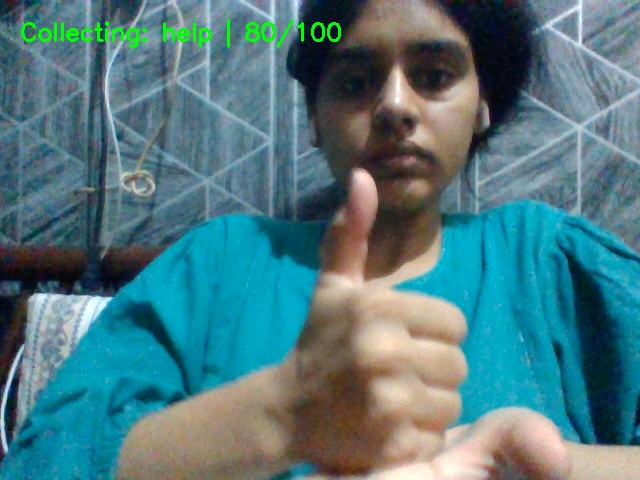help: (262, 161, 588, 480)
